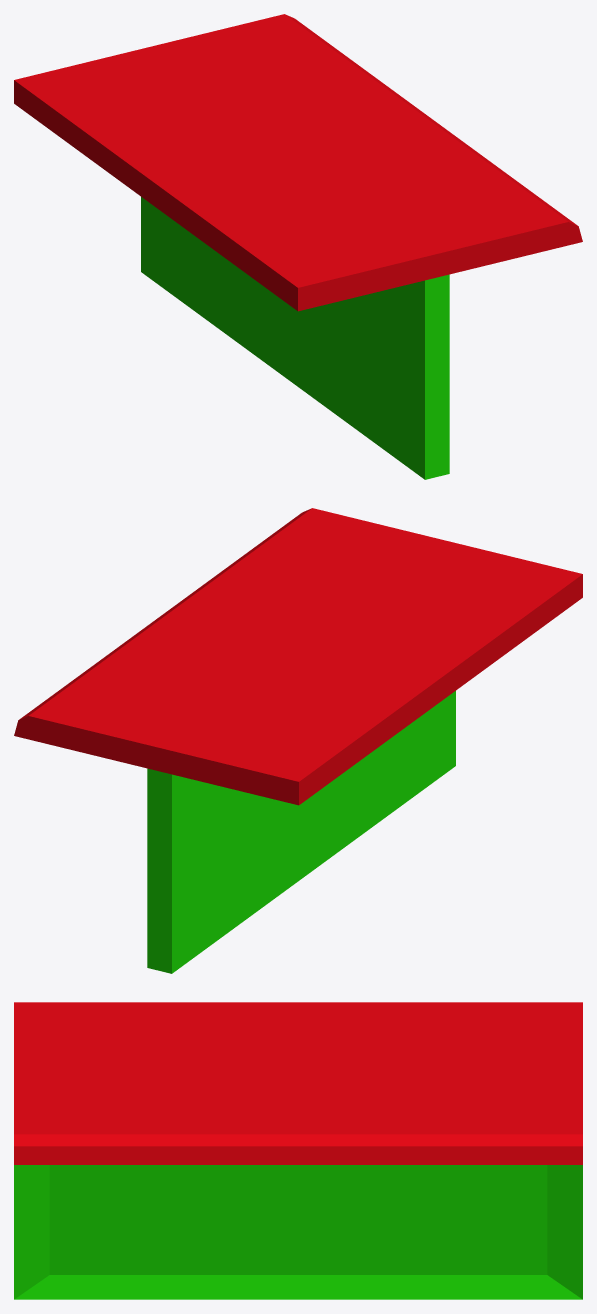
File: Counter.fbx
The picture shows the model from 3 angles, top to bottom: view 1: azimuth 30°, elevation 25°; view 2: azimuth 150°, elevation 25°; view 3: azimuth 270°, elevation 25°; orthographic projection.
Parts seen in each view (by area): view 1: Counter; view 2: Counter; view 3: Counter.
Boxes of the visible parts, x1=… form: Counter: x1=14, y1=14, x2=582, y2=479; Counter: x1=14, y1=508, x2=582, y2=973; Counter: x1=14, y1=1002, x2=582, y2=1299.
Size of the model in its own units: 174 by 130 by 300.
